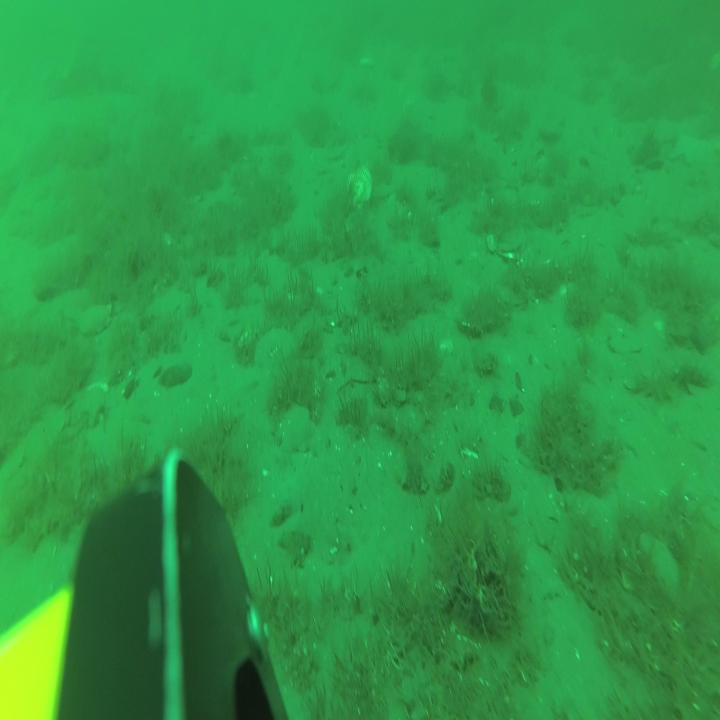scallop: (276, 406, 317, 452), (344, 164, 373, 213), (488, 225, 528, 258), (78, 304, 112, 334)
